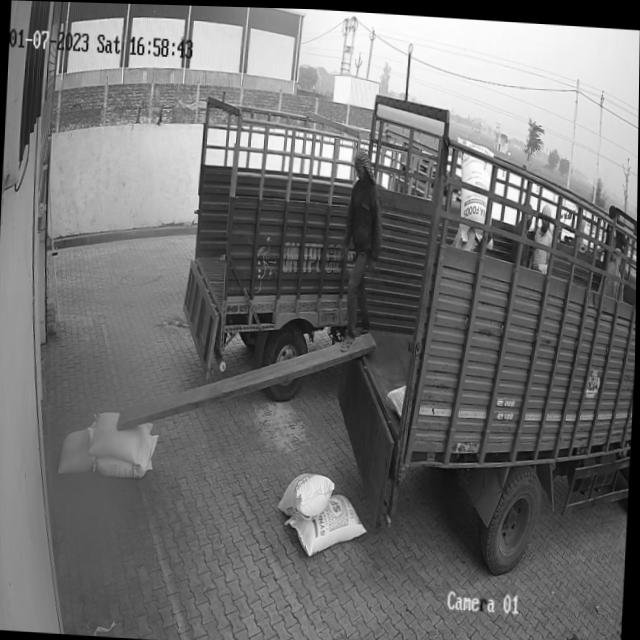sack: (284, 486, 369, 557), (88, 410, 154, 465), (93, 430, 159, 479), (279, 468, 335, 520), (58, 423, 100, 476)
